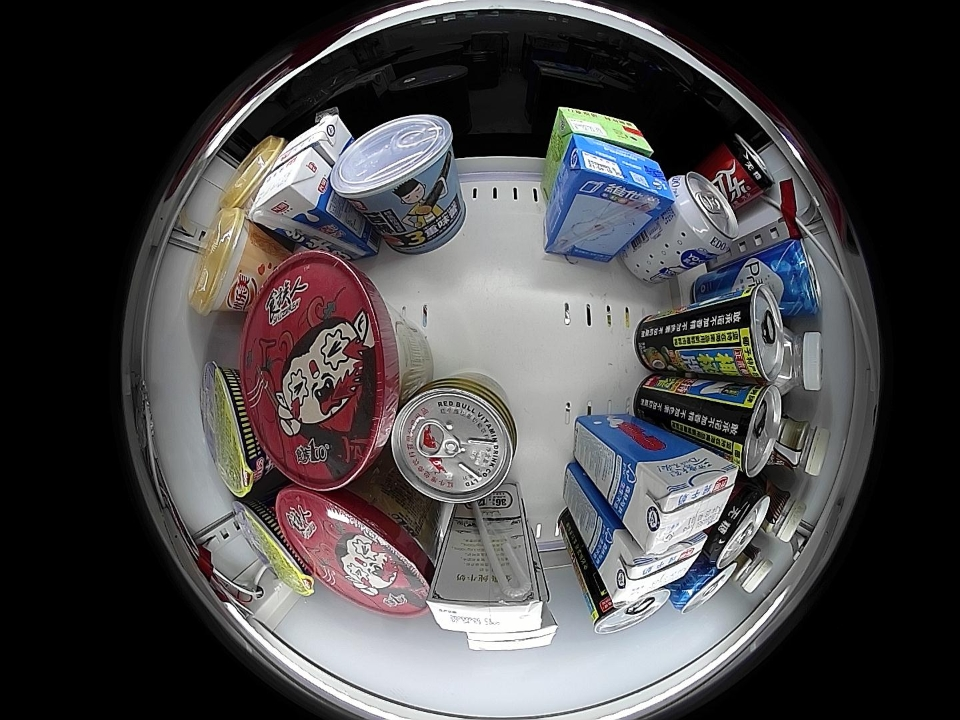haitai: (329, 113, 454, 214)
heweidao: (199, 359, 268, 500), (231, 496, 315, 596)
hongniu2: (390, 375, 518, 504)
jindian: (428, 571, 541, 633), (462, 622, 558, 652)
kafei: (770, 414, 830, 476), (757, 478, 807, 542), (729, 541, 774, 595)
lingdukele: (706, 485, 770, 569), (717, 134, 773, 197)
niunai: (628, 444, 740, 555), (606, 529, 708, 603), (249, 144, 331, 230), (273, 111, 351, 170)
qingdaowangzi-2: (770, 239, 821, 317), (670, 556, 736, 614)
rusuanjunqishui: (667, 170, 740, 257)
suanlafen: (241, 250, 401, 491), (278, 484, 434, 617)
wanglaoji: (552, 107, 654, 157)
weitanai: (556, 135, 674, 220)
weiweidounai: (773, 330, 824, 393)
yezhi: (721, 284, 784, 381), (718, 383, 781, 478), (590, 585, 670, 635)
youlemei: (188, 207, 263, 317), (222, 135, 282, 212)
